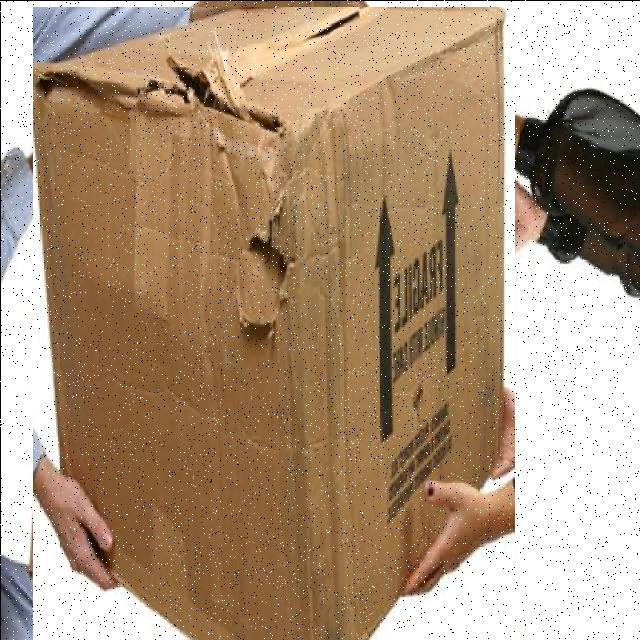defect: (32, 6, 514, 639)
